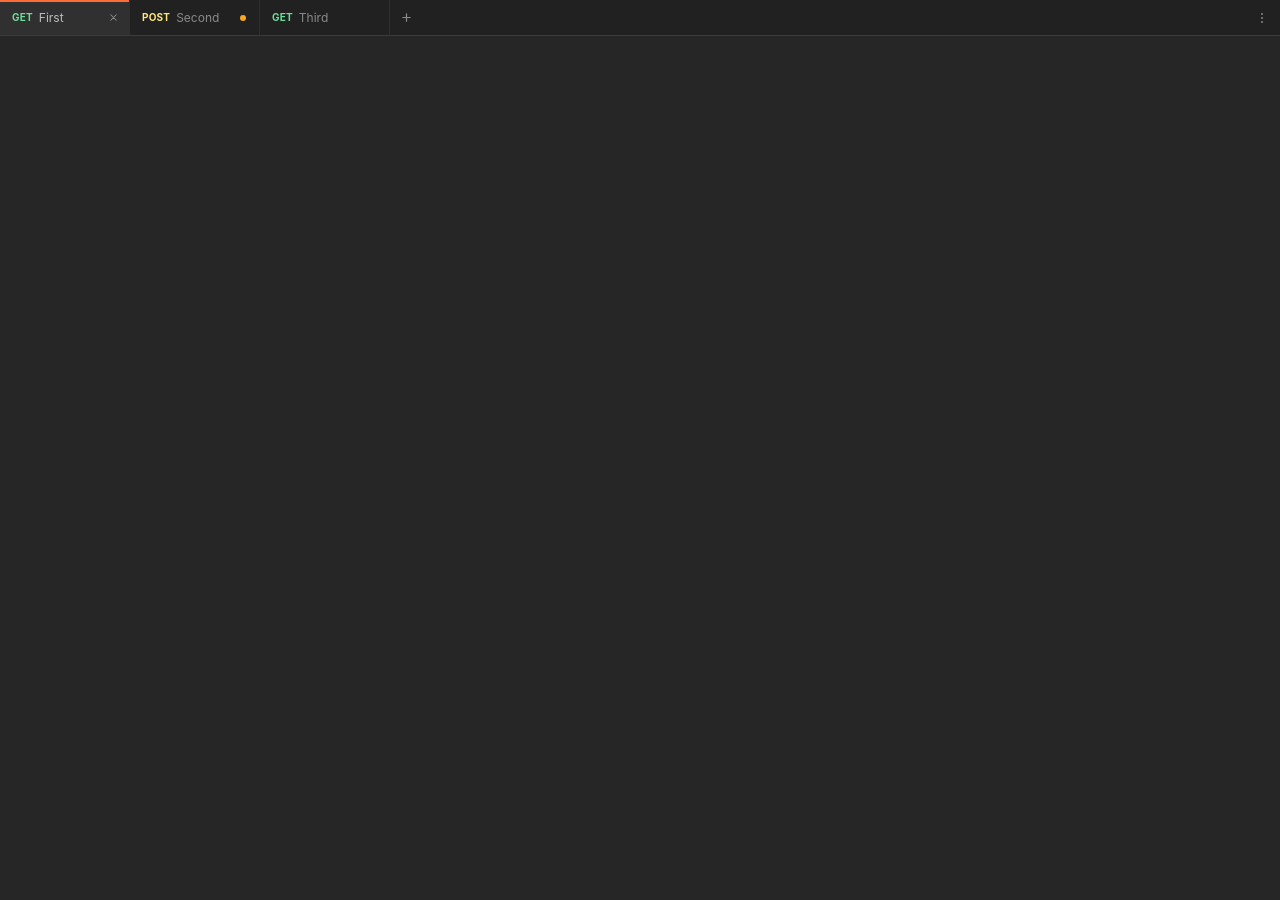
it: TabStrip › keeps the tabs open when the unsaved prompt is dismissed
The image size is (1280, 900).
Press the mouse on the button named "Tab actions": (1262, 18) [1250, 6, 1274, 30]
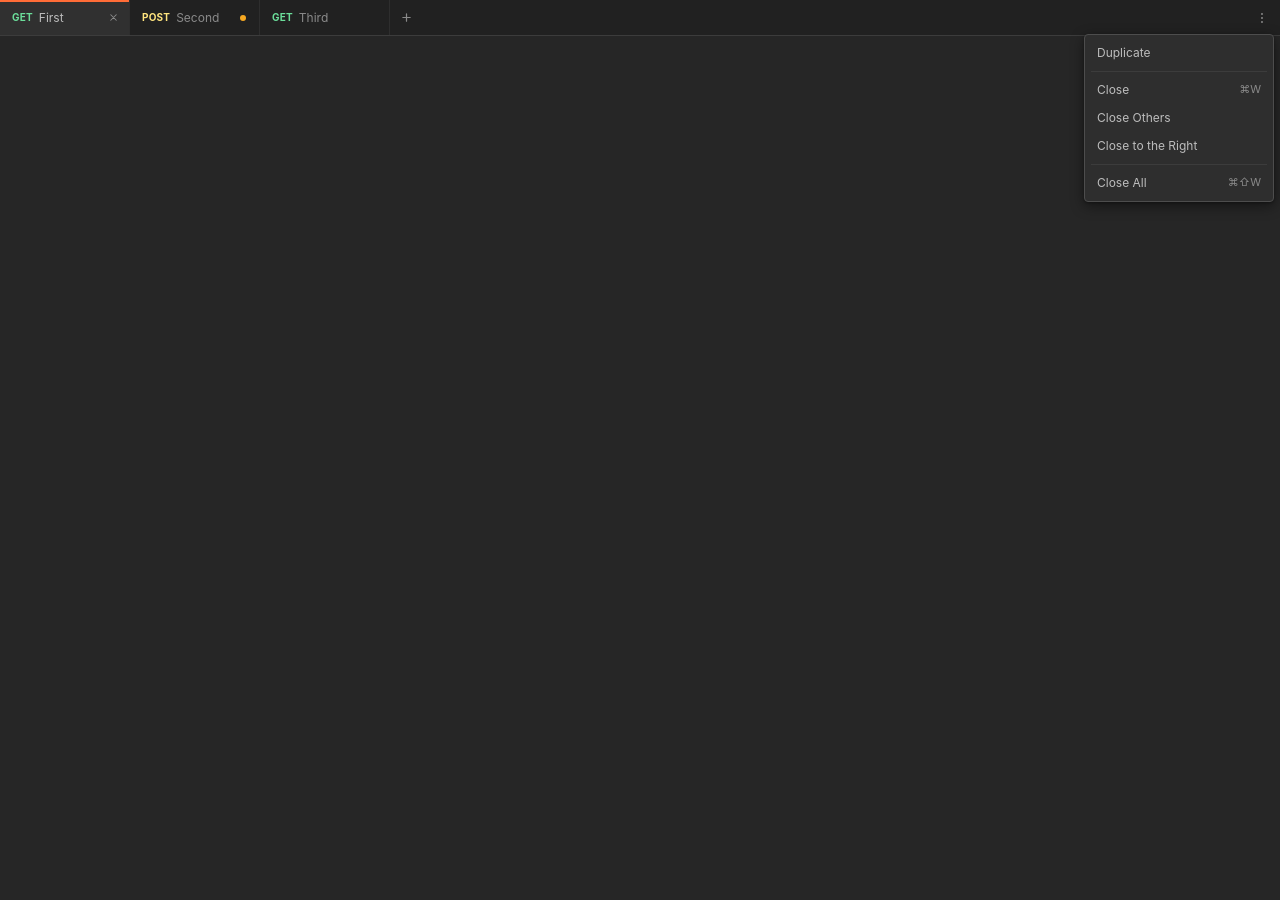
Click the text "Close All": (1122, 182) [1097, 175, 1147, 190]
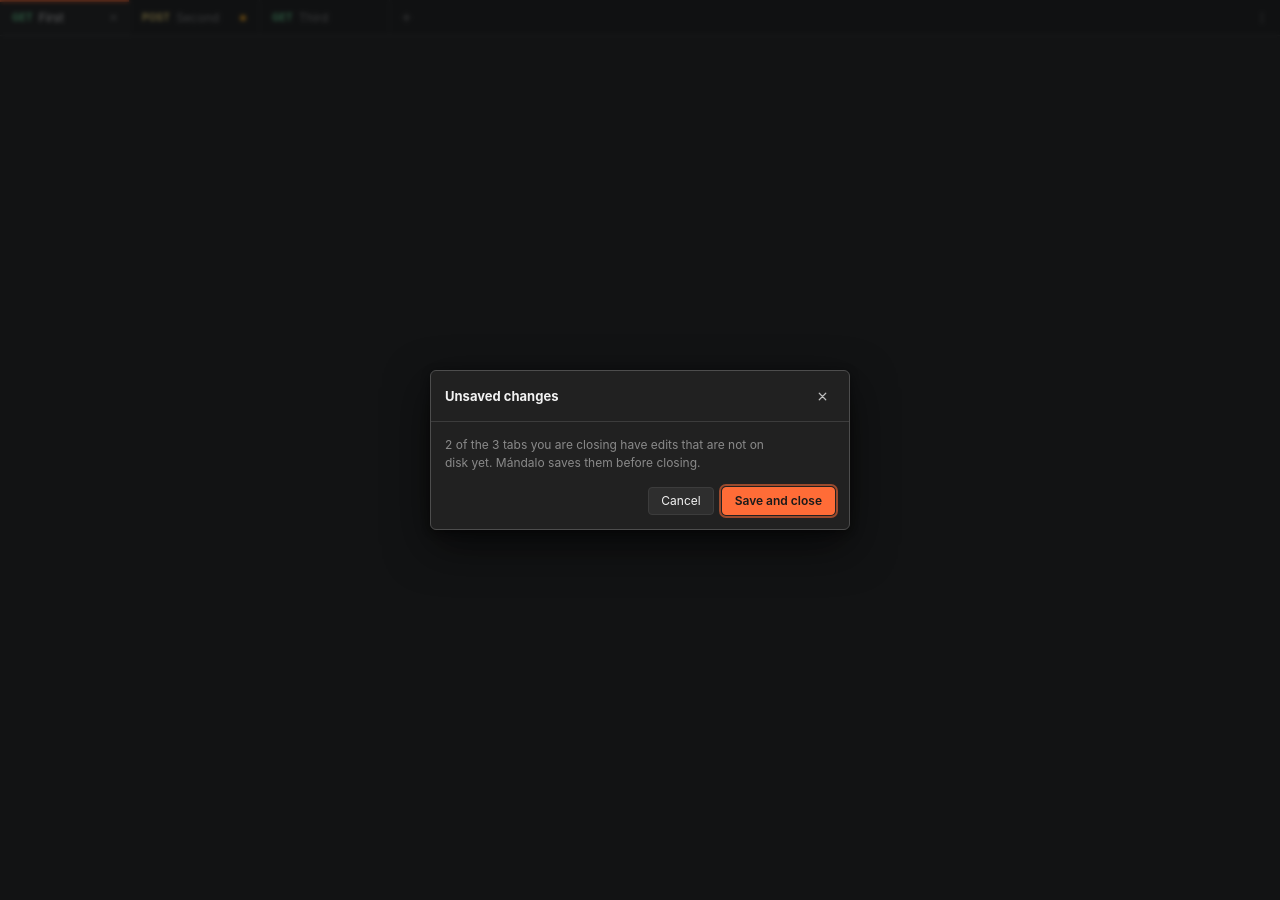
Click the button "Cancel": (681, 501) [648, 487, 714, 515]
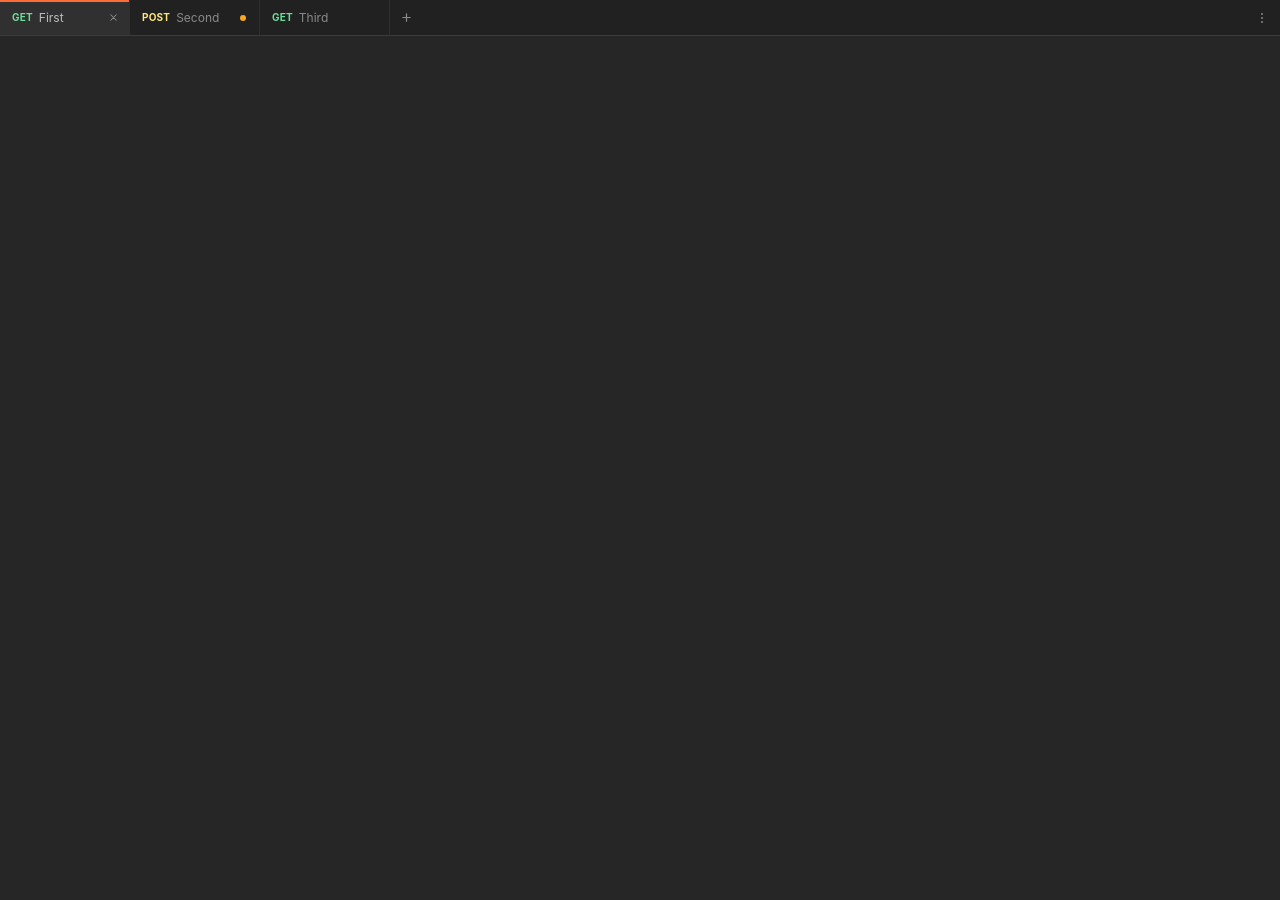
Expected: the heading "Unsaved changes" is gone
